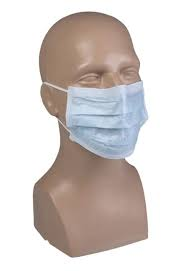flumask: (66, 83, 149, 159)
